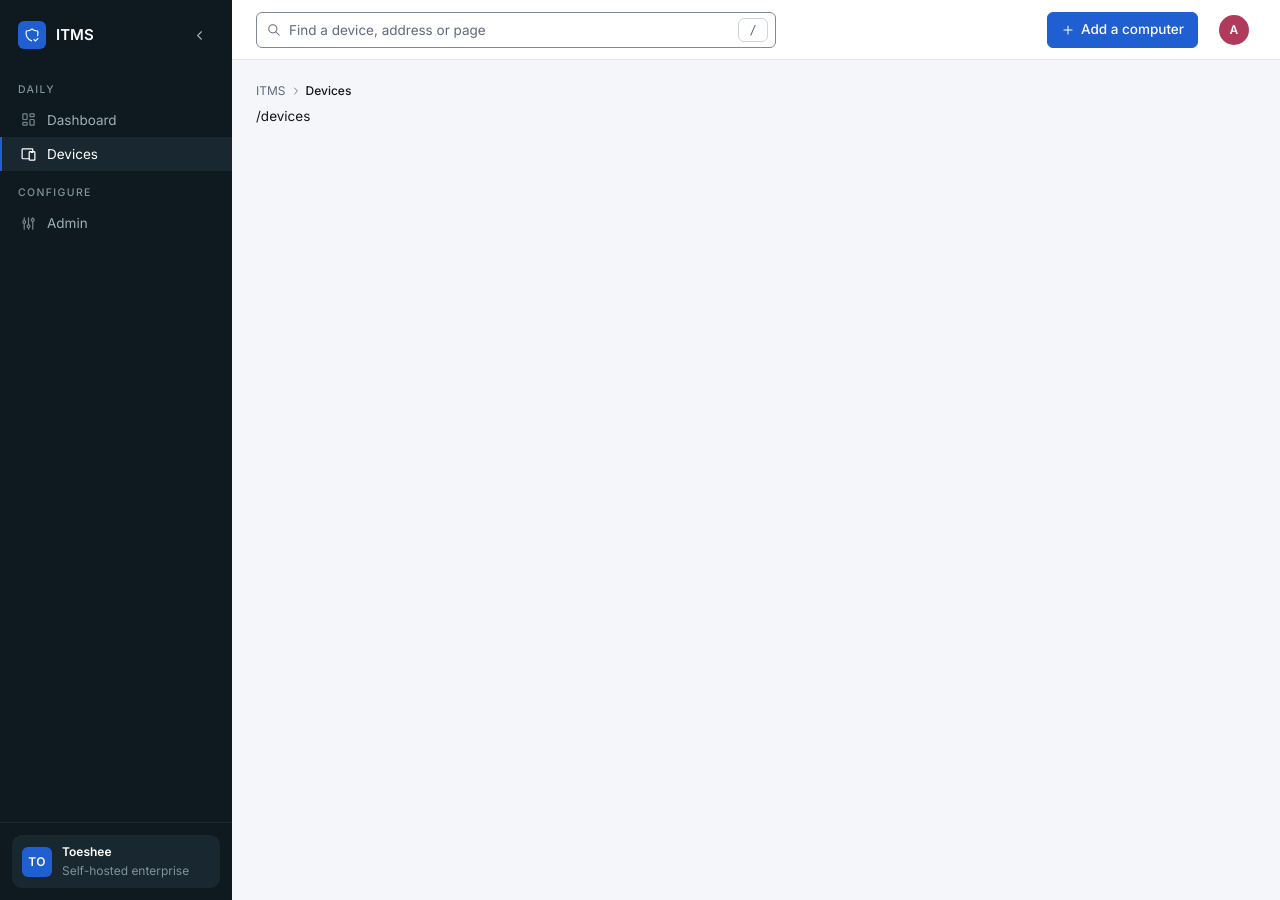
the top-bar search finds records › queries only what the account can read
The image size is (1280, 900).
Click the dropdown named "find or ask": (516, 30) [256,12,776,48]
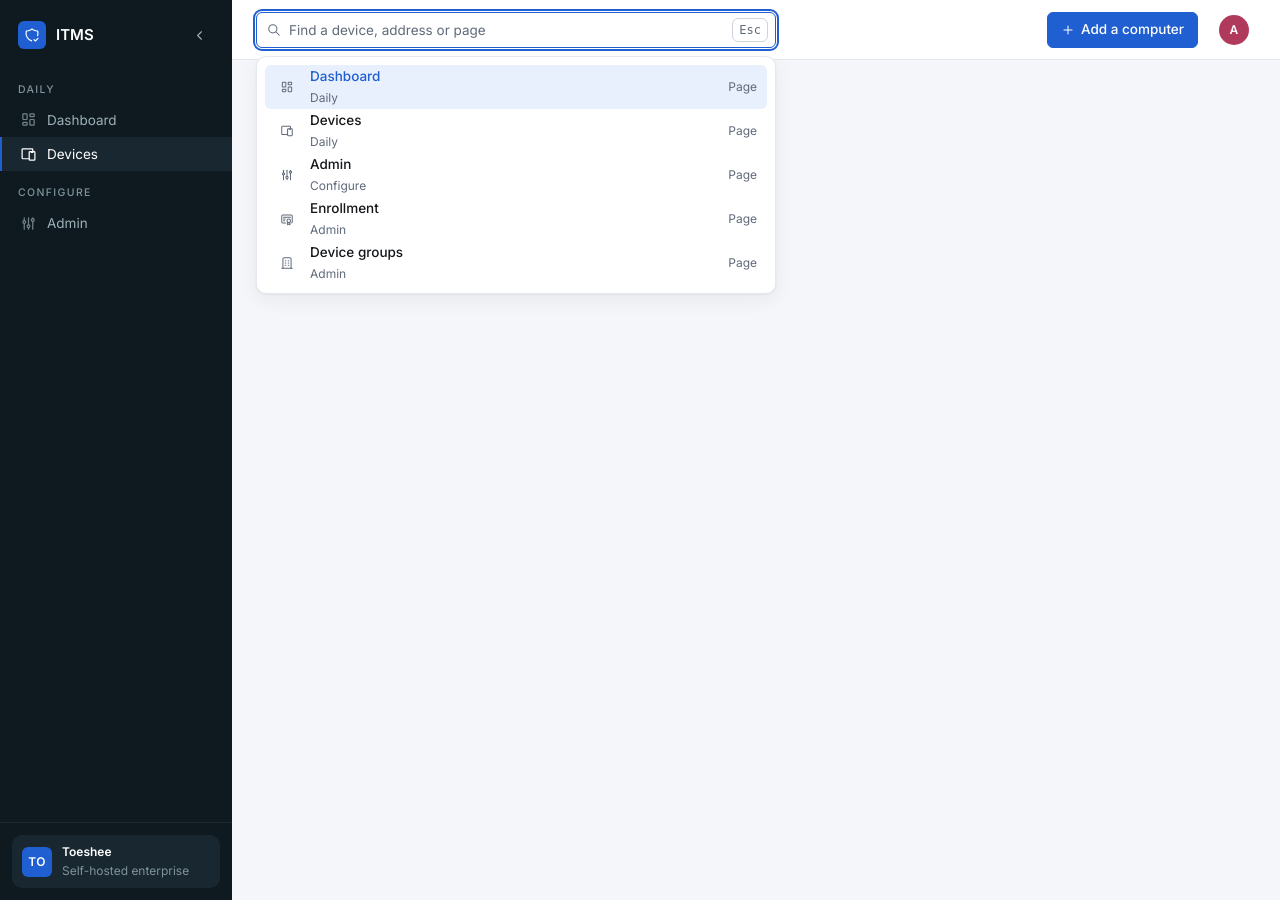
Type keys "INC-42"
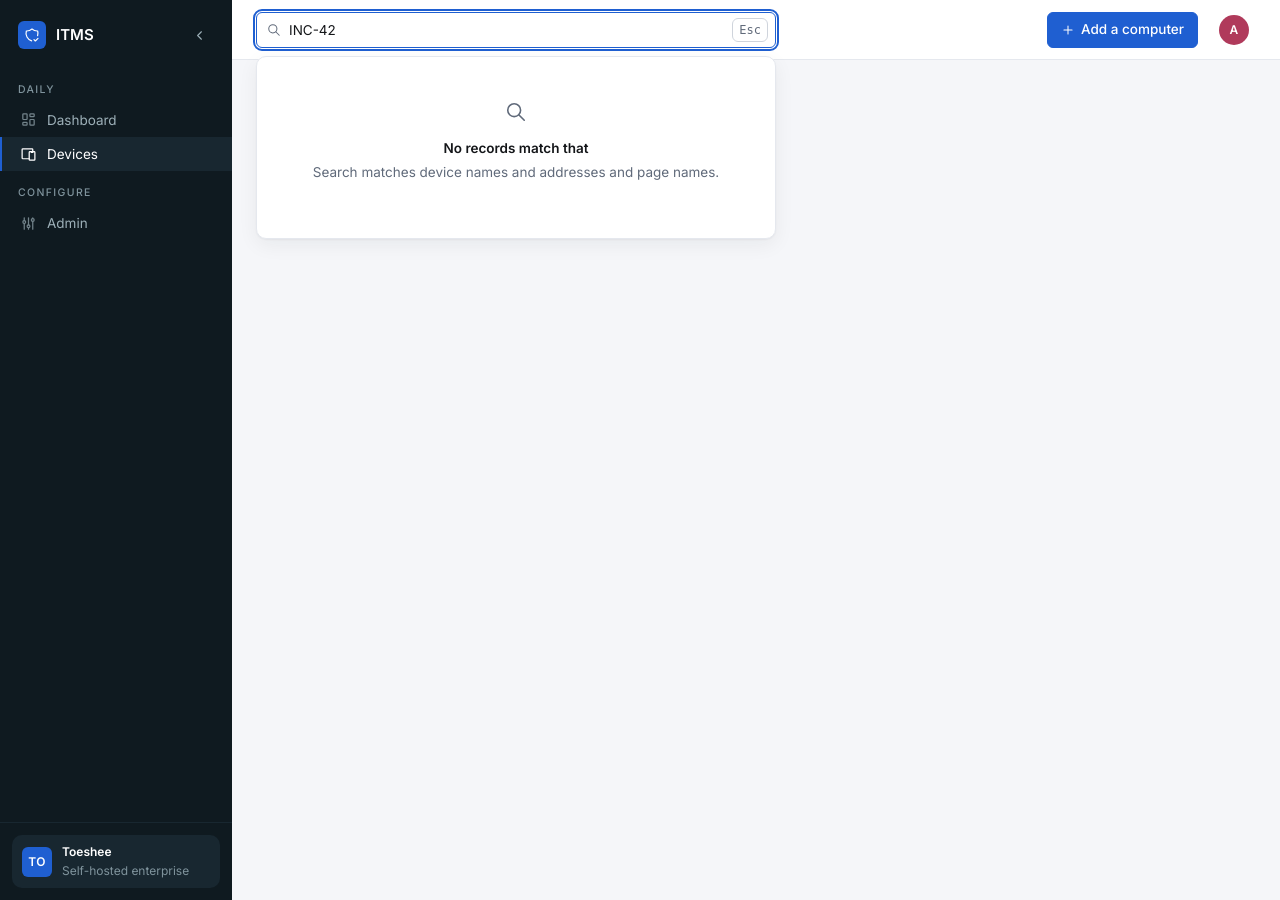
expect the heading "No records match that" is shown: met, box [444,140,588,156]
